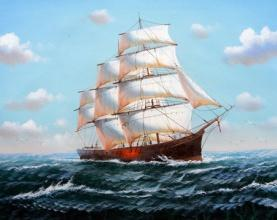fanchuan: (75, 13, 228, 162)
